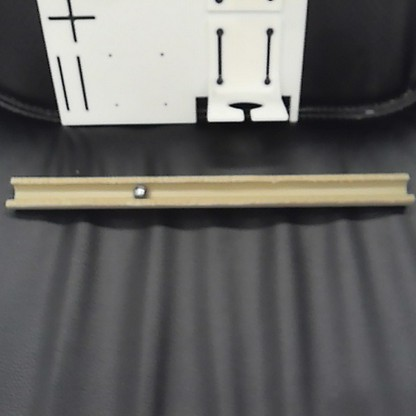ironball: (133, 182, 147, 198)
